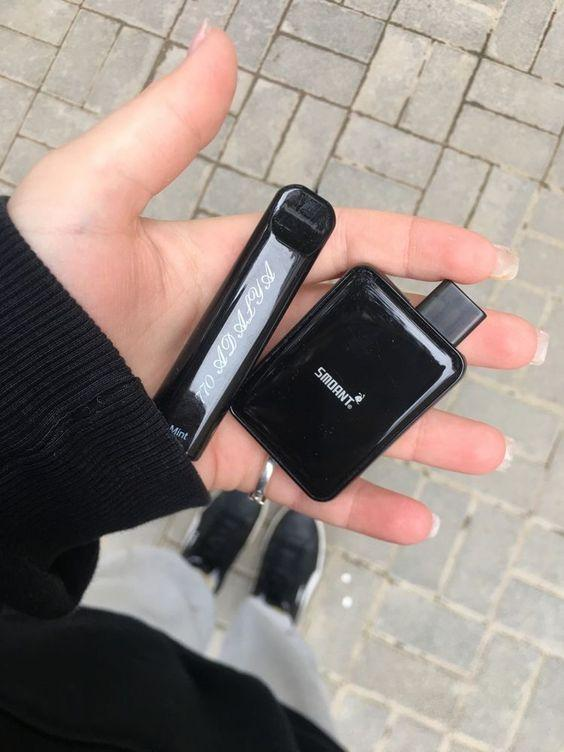Vape: (229, 266, 485, 500), (157, 185, 335, 457)
